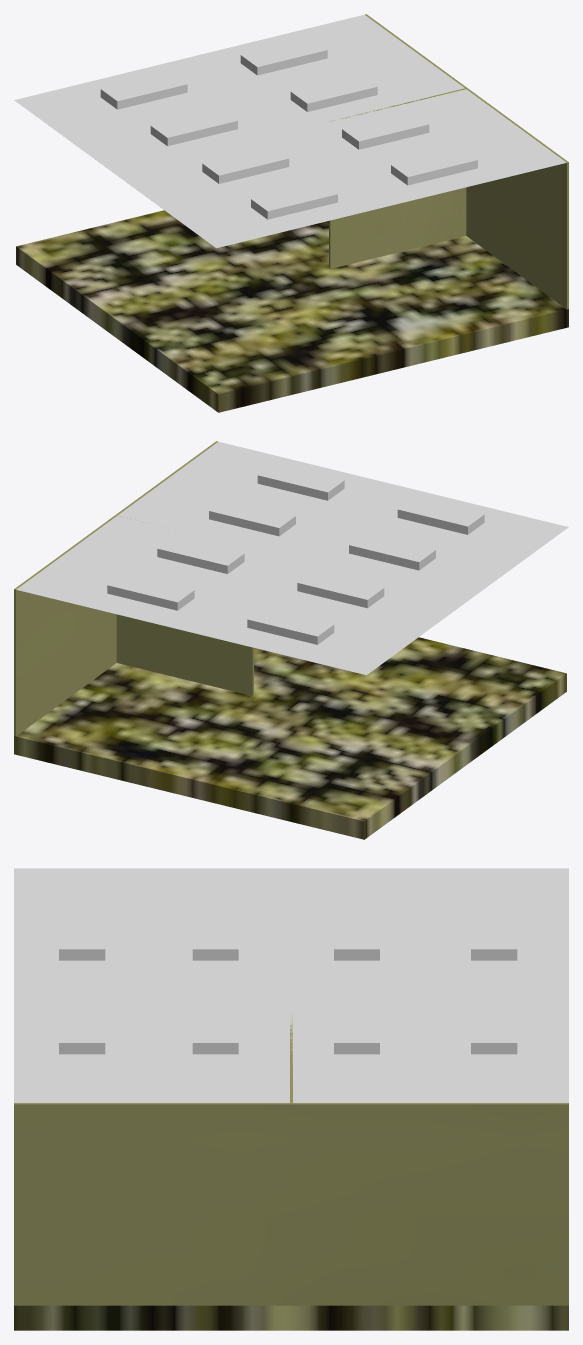
Rendered from BackroomsLevelZero - 5.fbx.
3 renders of one model, top to bottom at view 1: azimuth 30°, elevation 25°; view 2: azimuth 150°, elevation 25°; view 3: azimuth 270°, elevation 25°, orthographic. The views are drawn at different scales.
Parts seen in each view (by area): view 1: Floor.004, Floor.031, Wall.012, Wall.013, Cube.108, Cube.111, Cube.112, Cube.110, Cube.109, Cube.107, Cube.114, Cube.113; view 2: Floor.004, Floor.031, Wall.012, Wall.013, Cube.107, Cube.111, Cube.113, Cube.110, Cube.108, Cube.114, Cube.112, Cube.109; view 3: Wall.012, Floor.031, Floor.004, Cube.107, Cube.109, Cube.113, Cube.110, Cube.112, Cube.114, Cube.108, Cube.111.
Part boxes in pixels (x1,y1,x2,y2): Floor.004: (16, 210, 568, 412); Floor.031: (14, 14, 566, 248); Wall.012: (365, 14, 568, 309); Wall.013: (329, 88, 466, 268); Cube.108: (150, 108, 237, 146); Cube.111: (290, 74, 377, 111); Cube.112: (342, 112, 429, 149); Cube.110: (240, 38, 327, 75); Cube.109: (202, 146, 289, 183); Cube.107: (100, 72, 187, 109); Cube.114: (391, 148, 477, 185); Cube.113: (251, 182, 337, 219); Floor.004: (14, 637, 566, 839); Floor.031: (16, 441, 568, 675); Wall.012: (14, 441, 217, 736); Wall.013: (116, 516, 253, 695); Cube.107: (247, 607, 334, 644); Cube.111: (157, 536, 244, 573); Cube.113: (397, 497, 484, 534); Cube.110: (107, 573, 194, 610); Cube.108: (297, 570, 384, 608); Cube.114: (257, 463, 344, 500); Cube.112: (209, 498, 295, 536); Cube.109: (349, 533, 435, 570); Wall.012: (14, 1103, 568, 1305); Floor.031: (14, 868, 568, 1102); Floor.004: (14, 1305, 568, 1330); Cube.107: (471, 902, 517, 960); Cube.109: (192, 902, 238, 960); Cube.113: (59, 902, 105, 960); Cube.110: (471, 996, 517, 1054); Cube.112: (192, 996, 238, 1054); Cube.114: (59, 996, 105, 1054); Cube.108: (334, 902, 379, 960); Cube.111: (334, 996, 379, 1054).
Size of the model in its own units: 2012 by 946 by 2000.
